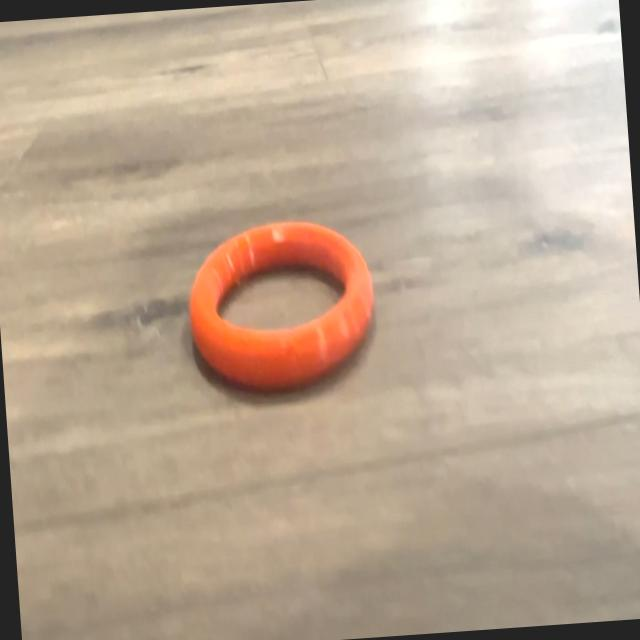note: (182, 216, 378, 388)
